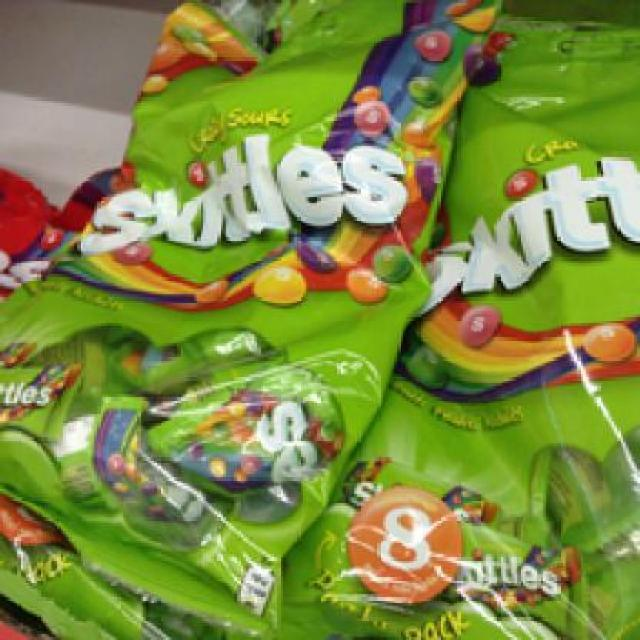Candy: (0, 250, 380, 606), (74, 8, 454, 294), (274, 346, 630, 637), (390, 26, 626, 343)
